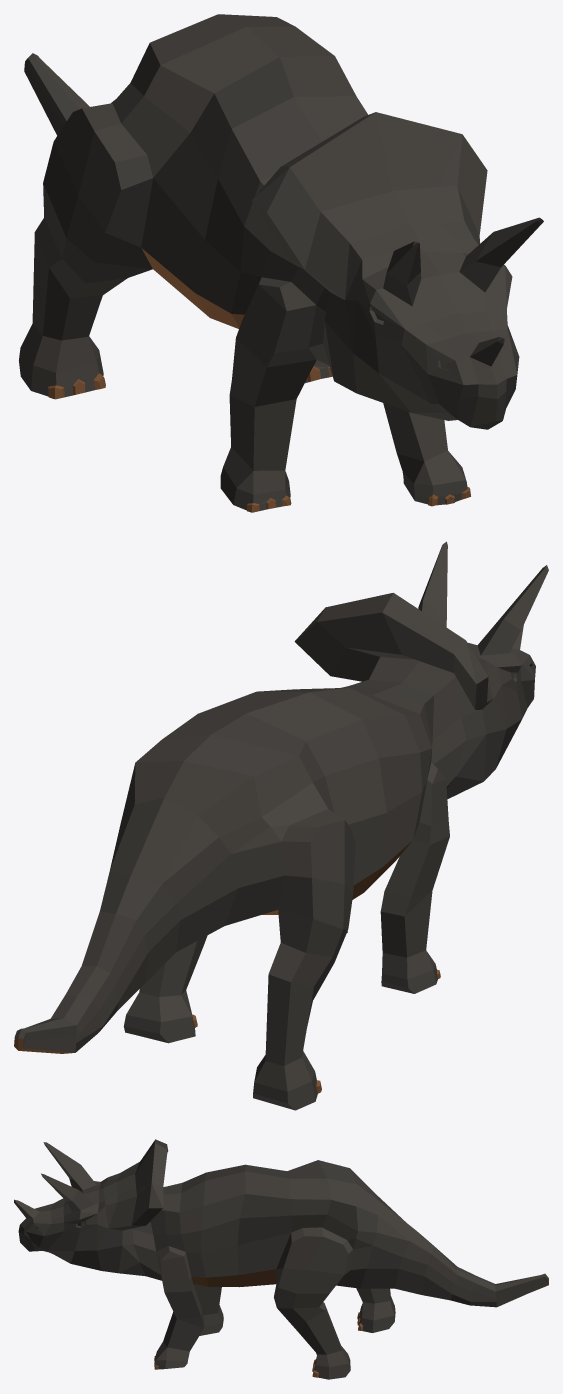
The model's file is cc0-triceratops-lod1.glb.
3 views of the same model, one above another, from view 1: azimuth 30°, elevation 25°; view 2: azimuth 150°, elevation 25°; view 3: azimuth 270°, elevation 25° (orthographic). The views are drawn at different scales.
Visible parts, largest first — view 1: part_0; view 2: part_0; view 3: part_0.
Part boxes in pixels (box(x1,y1,x2,y2)): part_0: box(19, 14, 543, 512); part_0: box(14, 541, 548, 1110); part_0: box(14, 1139, 548, 1379).
Size of the model in its own units: 5.85 by 8.87 by 20.98.
